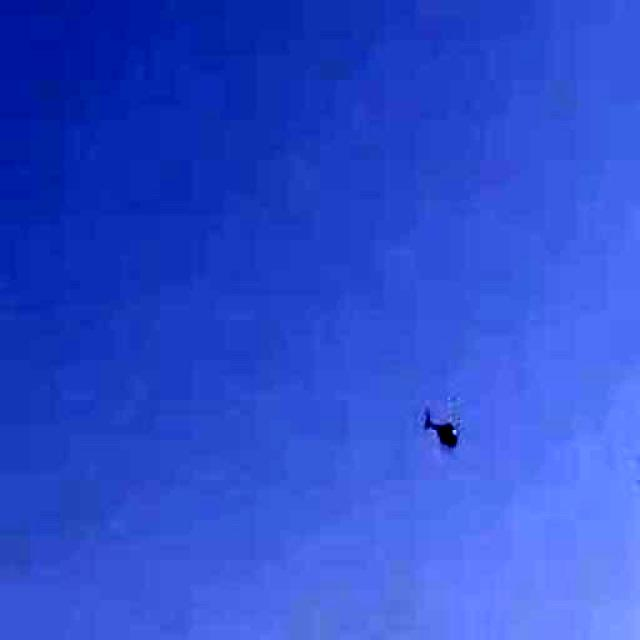drone: (406, 379, 472, 465)
